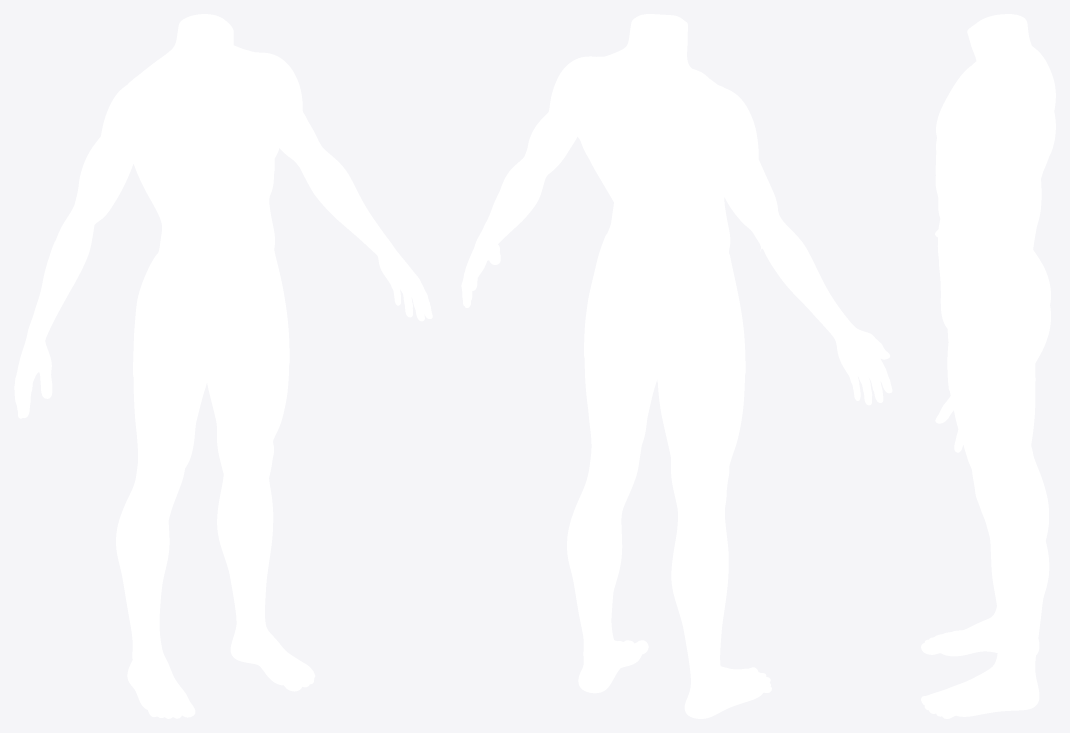
File: torso_hybrid_v1.web.glb
The picture shows the model from 3 angles, left to right: view 1: azimuth 30°, elevation 25°; view 2: azimuth 150°, elevation 25°; view 3: azimuth 270°, elevation 25°; orthographic projection. The views are drawn at different scales.
Bounding box in the file's own units: 1.24 × 1.9 × 0.3523.
Materials: 1 (1 with a texture image).
